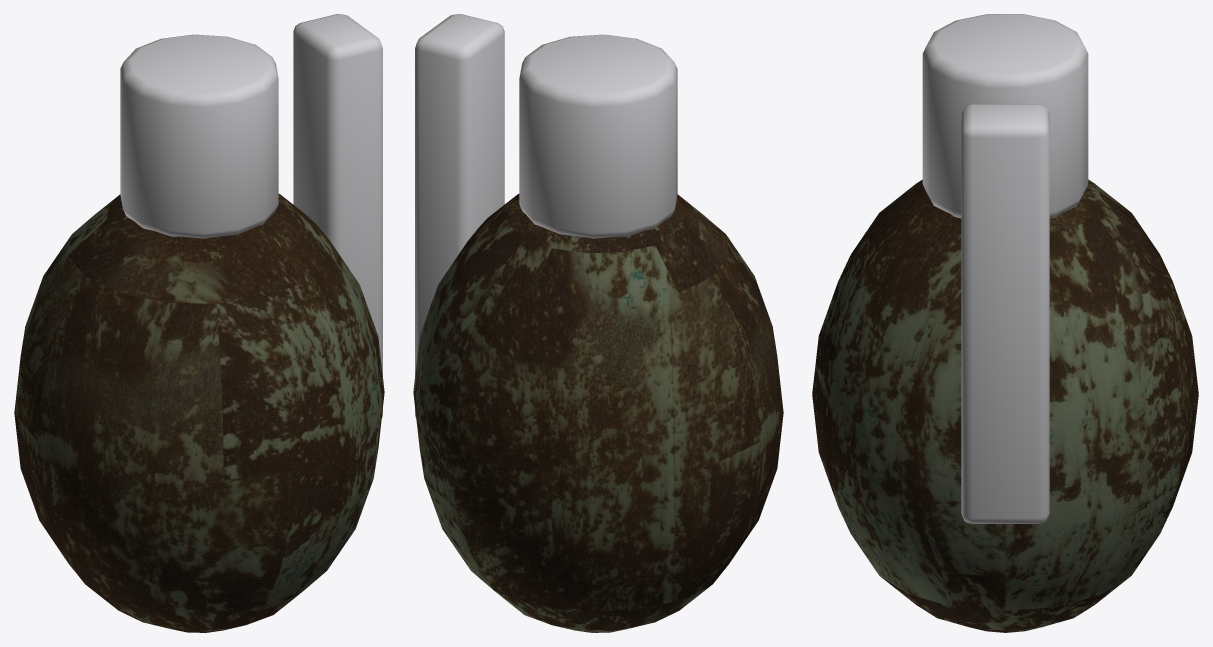
File: prop_grenade.glb
3 views of the same model, side by side, from view 1: azimuth 30°, elevation 25°; view 2: azimuth 150°, elevation 25°; view 3: azimuth 270°, elevation 25° (orthographic). The views are drawn at different scales.
Visible parts, largest first — view 1: Body, Fuze, Lever; view 2: Body, Fuze, Lever; view 3: Body, Lever, Fuze.
Part boxes in pixels (<box>): Body: <box>14,194,384,632</box>; Fuze: <box>120,34,278,238</box>; Lever: <box>293,14,382,418</box>; Body: <box>413,194,783,632</box>; Fuze: <box>519,34,677,238</box>; Lever: <box>415,14,504,418</box>; Body: <box>812,179,1198,632</box>; Lever: <box>961,104,1049,523</box>; Fuze: <box>922,14,1088,218</box>.
Bounding box in the file's own units: 0.071 × 0.115 × 0.07.
Materials: 2 (1 with a texture image).
